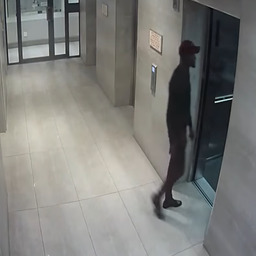person: (152, 40, 201, 218)
